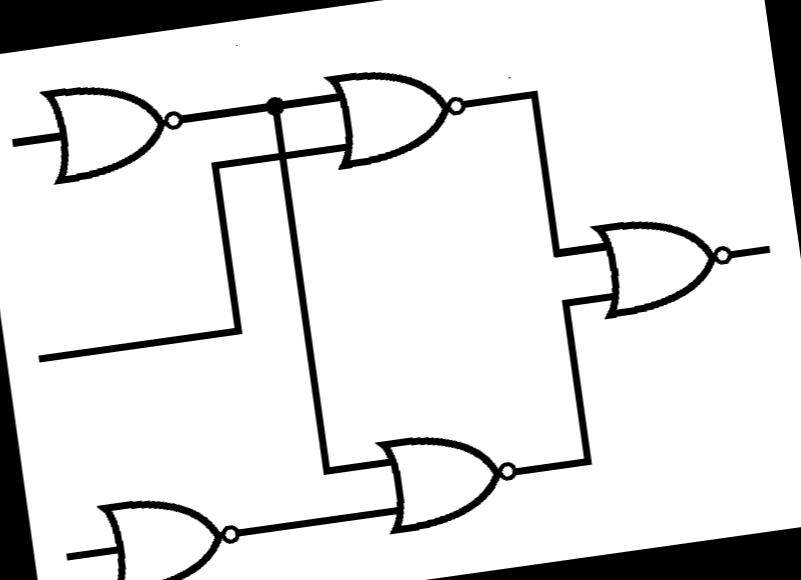nor: (580, 197, 746, 325), (30, 64, 196, 191), (366, 413, 532, 539), (314, 50, 479, 175), (87, 476, 252, 580)
